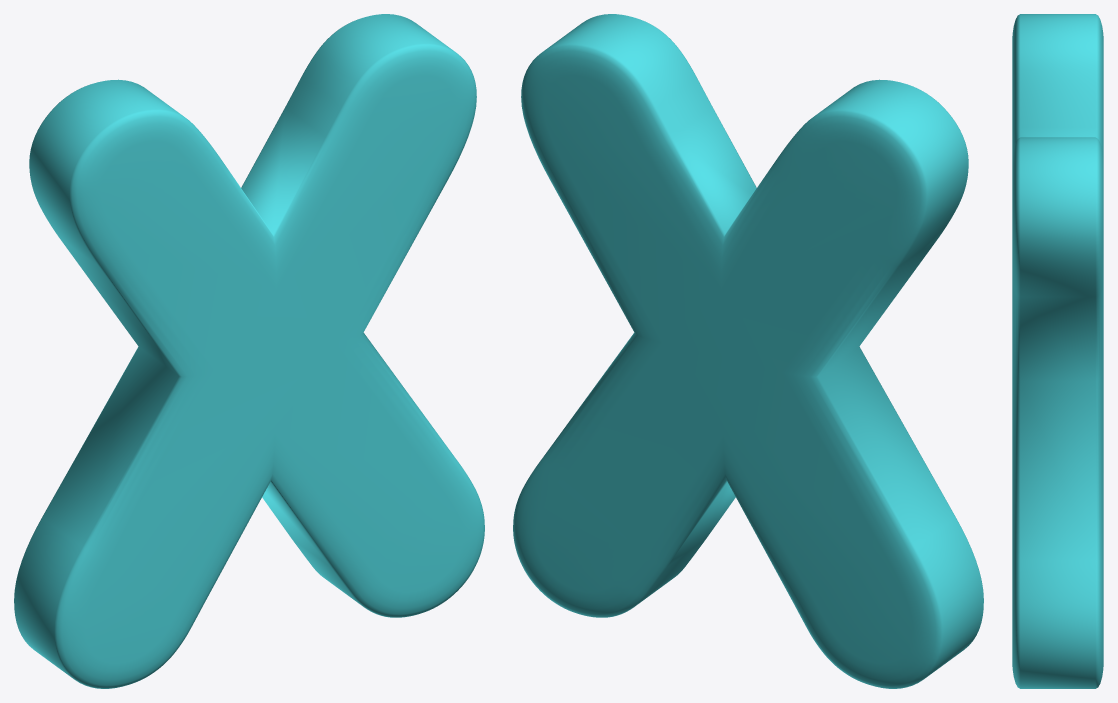
The model's file is RA_Letter_X.fbx.
The picture shows the model from 3 angles, left to right: view 1: azimuth 30°, elevation 25°; view 2: azimuth 150°, elevation 25°; view 3: azimuth 270°, elevation 25°; orthographic projection. The views are drawn at different scales.
Visible parts, largest first — view 1: RA_Letter_X; view 2: RA_Letter_X; view 3: RA_Letter_X.
Boxes of the visible parts, <box> form: RA_Letter_X: <box>14,14,484,688</box>; RA_Letter_X: <box>513,14,983,688</box>; RA_Letter_X: <box>1012,14,1103,688</box>.
Size of the model in its own units: 142 by 180 by 28.
